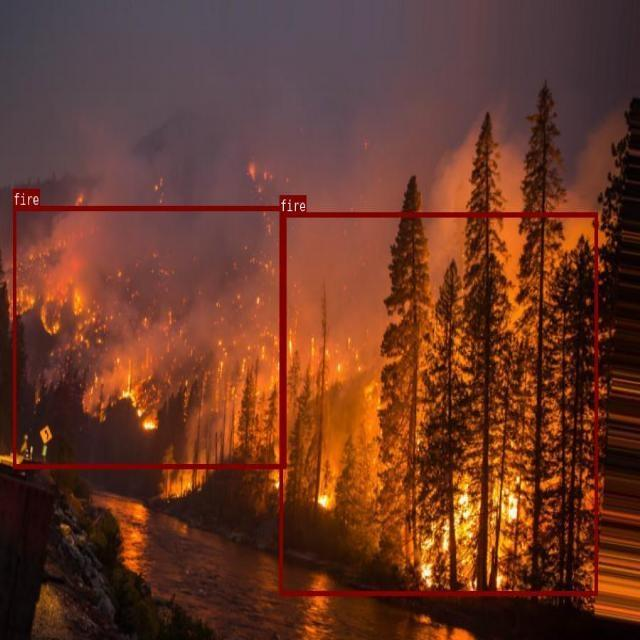fire: (280, 212, 598, 595), (13, 206, 286, 468)
